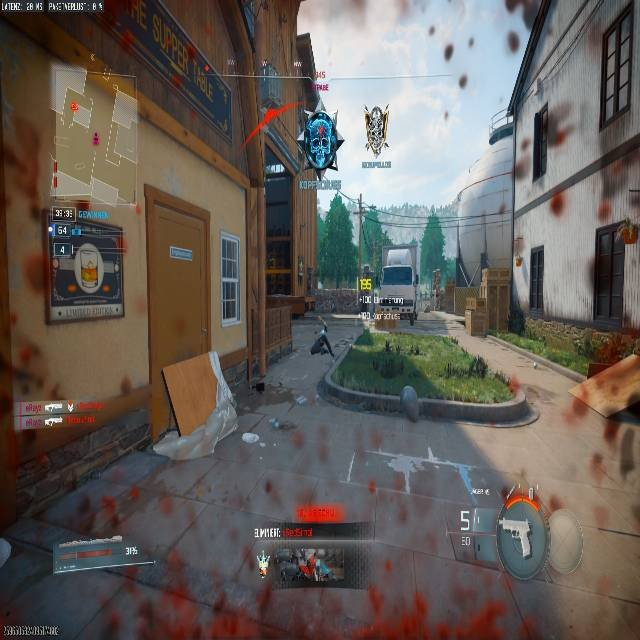player: (310, 323, 333, 356)
